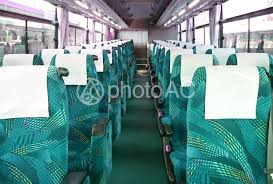seat: (191, 61, 269, 182)
